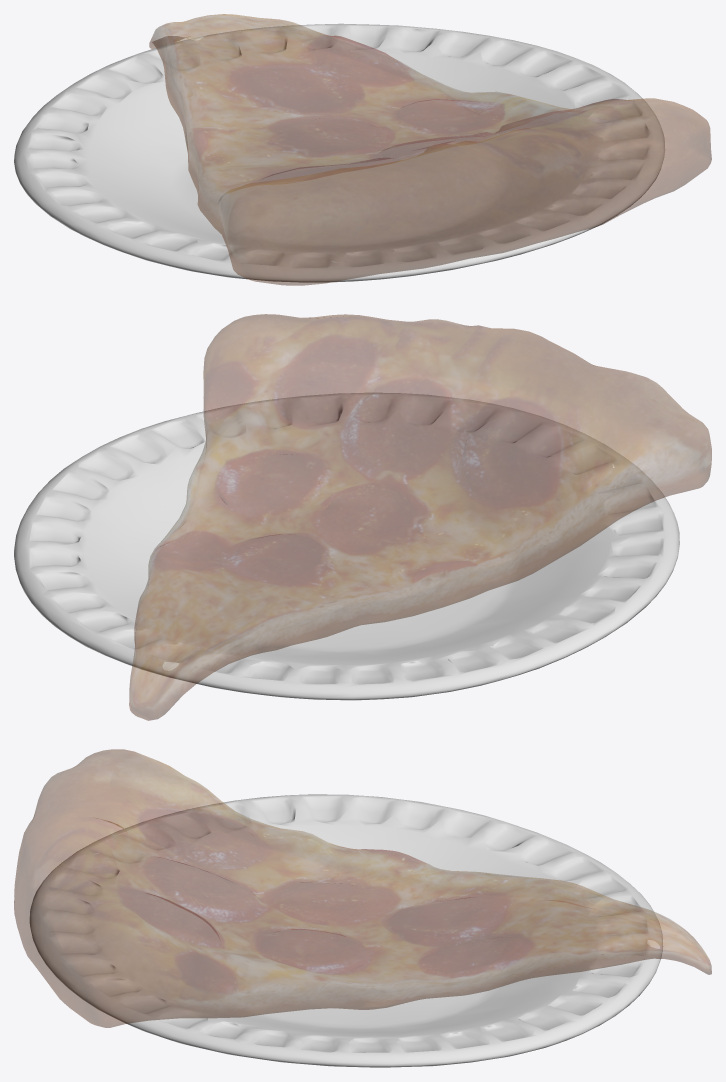
File: PizzaSlice.glb
3 renders of one model, top to bottom at view 1: azimuth 30°, elevation 25°; view 2: azimuth 150°, elevation 25°; view 3: azimuth 270°, elevation 25°, orthographic. The views are drawn at different scales.
Visible parts, largest first — view 1: 13917_Pepperoni_v2_l2; view 2: 13917_Pepperoni_v2_l2; view 3: 13917_Pepperoni_v2_l2.
Boxes of the visible parts, left/top/right/bottom form: 13917_Pepperoni_v2_l2: left=14, top=14, right=711, bottom=285; 13917_Pepperoni_v2_l2: left=14, top=314, right=711, bottom=720; 13917_Pepperoni_v2_l2: left=14, top=749, right=711, bottom=1067.
Size of the model in its own units: 0.13 by 0.035 by 0.143.
Materials: 2 (2 with a texture image).
